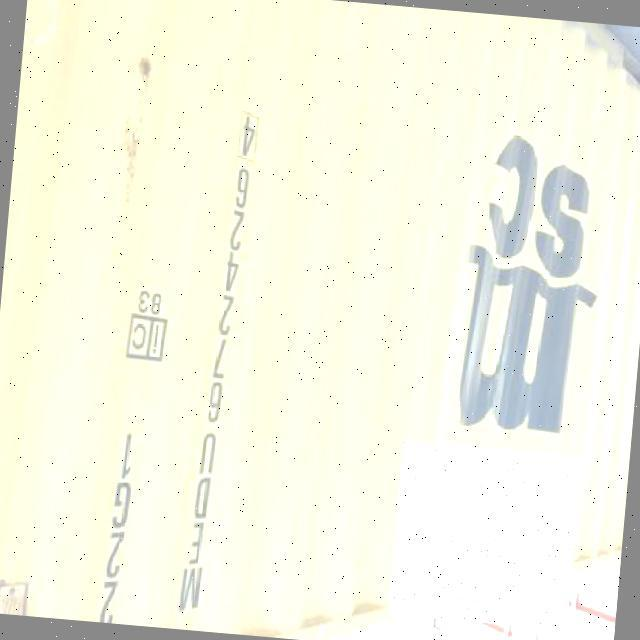Deframe: (388, 440, 582, 630)
